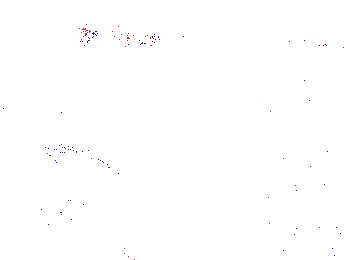glassfish: (41, 131, 129, 192)
red belly glassfish: (301, 38, 346, 55)
redtail glassfish: (76, 23, 160, 50), (1, 27, 23, 58)
